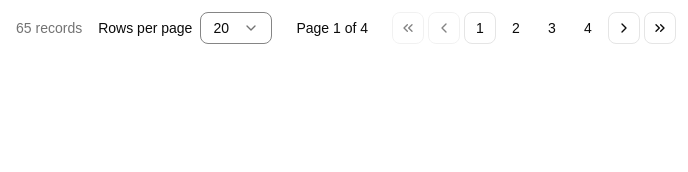
numbered data table pagination › uses translated accessible names for icon navigation
Expected: the button named "First page" is disabled, top-left (392, 12), bottom-right (424, 44)
Click the button named "Next page". click: (624, 28)
box: top-left (608, 12), bottom-right (640, 44)
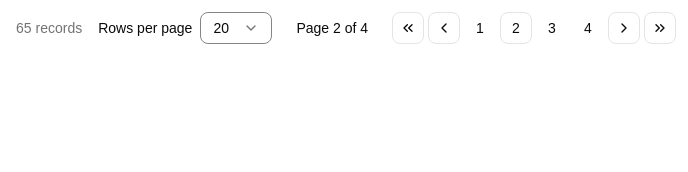
Expected: the text "Page 2 of 4" is shown, top-left (296, 18), bottom-right (368, 38)
